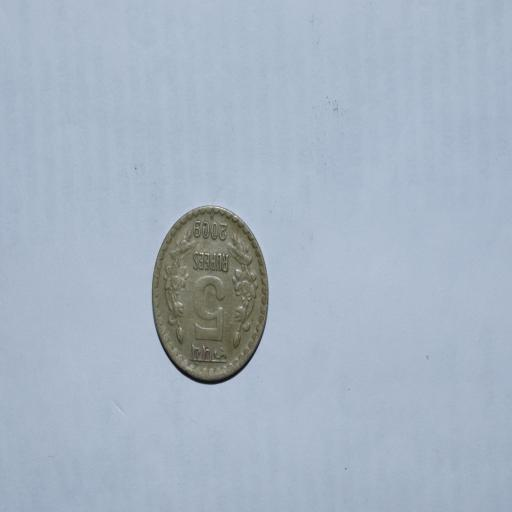rupee5: (150, 202, 270, 385)
